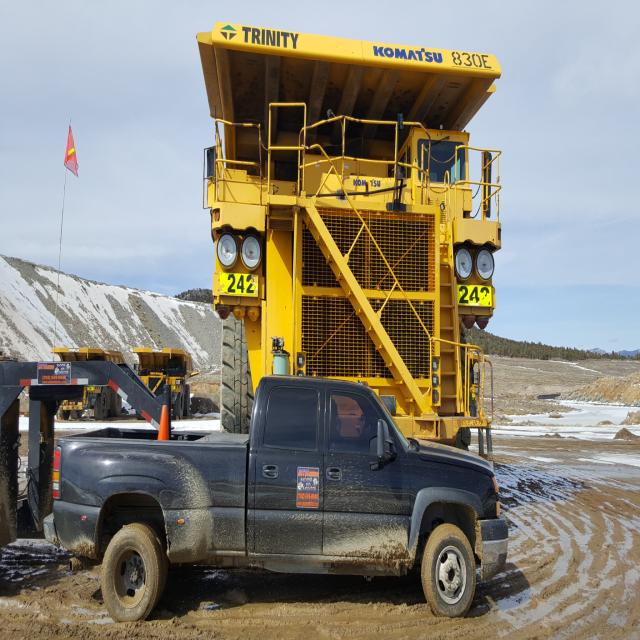dump_truck: (182, 8, 530, 454), (136, 343, 200, 430), (50, 332, 121, 410)
light_vehicle: (57, 368, 511, 614)
